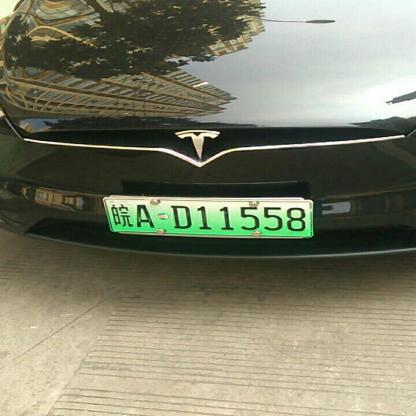lp: (104, 199, 312, 236)
